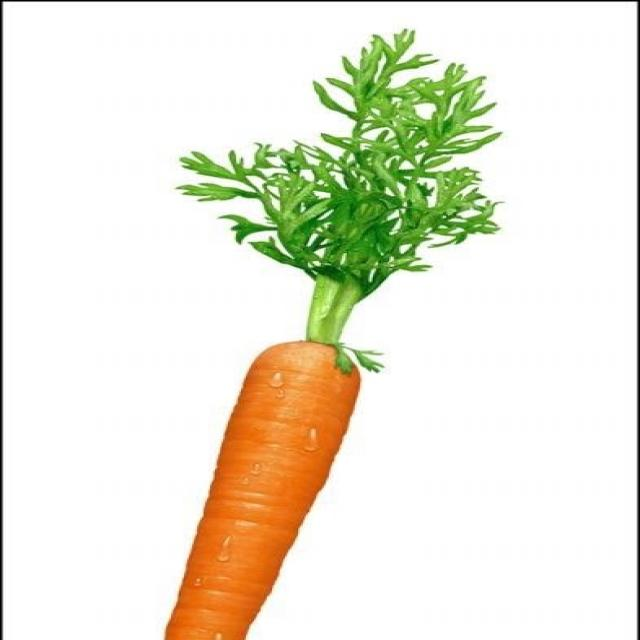Carrot: (147, 340, 373, 640)
